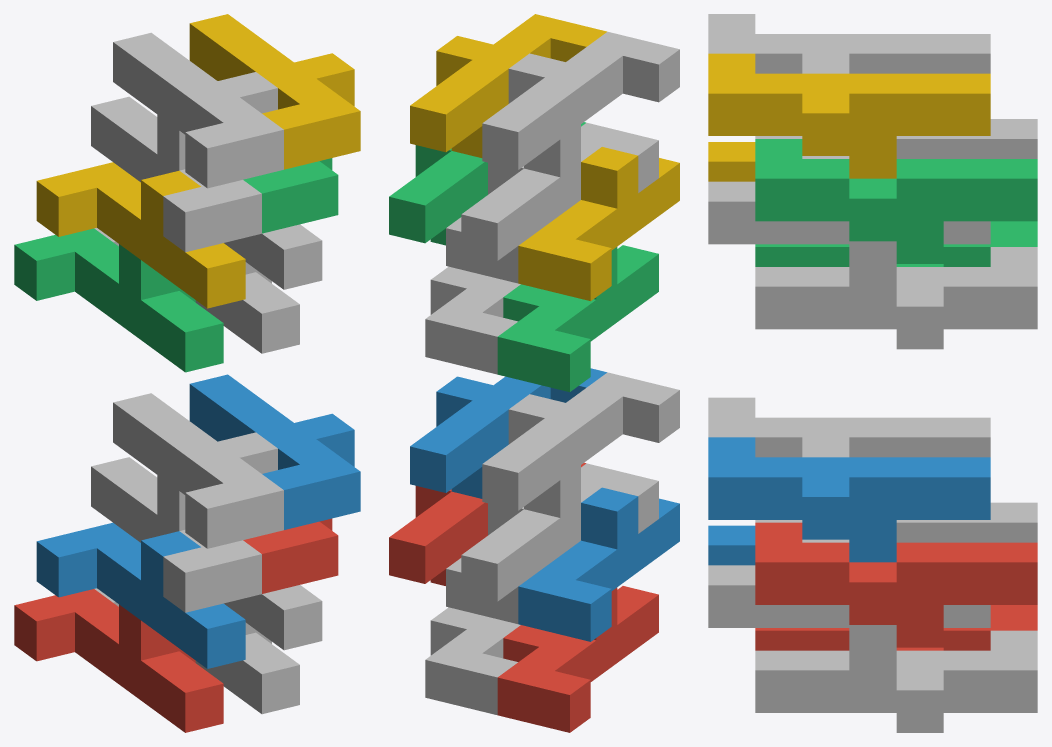
File: tiling.obj
3 renders of one model, left to right at view 1: azimuth 30°, elevation 25°; view 2: azimuth 150°, elevation 25°; view 3: azimuth 270°, elevation 25°, orthographic. The views are drawn at different scales.
Visible parts, largest first — view 1: copy_2_domain_2, copy_2_domain_4, copy_1_domain_1, copy_1_domain_3, copy_1_domain_2, copy_1_domain_4, copy_2_domain_6, copy_2_domain_8, copy_2_domain_1, copy_2_domain_3, copy_1_domain_5, copy_1_domain_7 (+4 smaller); view 2: copy_2_domain_2, copy_2_domain_4, copy_1_domain_2, copy_1_domain_4, copy_1_domain_1, copy_1_domain_3, copy_2_domain_8, copy_2_domain_6, copy_2_domain_1, copy_2_domain_3, copy_1_domain_7, copy_1_domain_5 (+4 smaller); view 3: copy_2_domain_6, copy_2_domain_8, copy_2_domain_7, copy_2_domain_5, copy_1_domain_5, copy_1_domain_7, copy_2_domain_2, copy_2_domain_4, copy_1_domain_8, copy_1_domain_6, copy_1_domain_1, copy_1_domain_3 (+4 smaller).
Boxes of the visible parts, <box> form: copy_2_domain_2: <box>113,393,283,548</box>; copy_2_domain_4: <box>113,32,283,188</box>; copy_1_domain_1: <box>14,589,223,732</box>; copy_1_domain_3: <box>14,228,223,372</box>; copy_1_domain_2: <box>36,522,245,668</box>; copy_1_domain_4: <box>36,162,245,308</box>; copy_2_domain_6: <box>189,374,360,529</box>; copy_2_domain_8: <box>189,14,360,169</box>; copy_2_domain_1: <box>91,457,261,612</box>; copy_2_domain_3: <box>91,96,261,252</box>; copy_1_domain_5: <box>94,588,299,714</box>; copy_1_domain_7: <box>94,228,299,353</box>; copy_2_domain_2: <box>482,372,679,517</box>; copy_2_domain_4: <box>482,31,679,176</box>; copy_1_domain_2: <box>518,487,679,641</box>; copy_1_domain_4: <box>518,147,679,301</box>; copy_1_domain_1: <box>497,586,658,732</box>; copy_1_domain_3: <box>497,245,658,392</box>; copy_2_domain_8: <box>410,14,606,157</box>; copy_2_domain_6: <box>410,368,606,498</box>; copy_2_domain_1: <box>461,463,658,601</box>; copy_2_domain_3: <box>461,122,658,260</box>; copy_1_domain_7: <box>425,266,520,374</box>; copy_1_domain_5: <box>425,607,520,715</box>; copy_2_domain_6: <box>708,437,990,562</box>; copy_2_domain_8: <box>708,53,990,178</box>; copy_2_domain_7: <box>755,139,1037,263</box>; copy_2_domain_5: <box>755,522,1037,647</box>; copy_1_domain_5: <box>755,630,1037,732</box>; copy_1_domain_7: <box>755,247,1037,349</box>; copy_2_domain_2: <box>708,397,990,457</box>; copy_2_domain_4: <box>708,14,990,73</box>; copy_1_domain_8: <box>708,156,990,263</box>; copy_1_domain_6: <box>708,539,990,647</box>; copy_1_domain_1: <box>755,605,1037,650</box>; copy_1_domain_3: <box>755,221,1037,266</box>.
Bounding box in the file's own units: 6 × 15 × 7.
